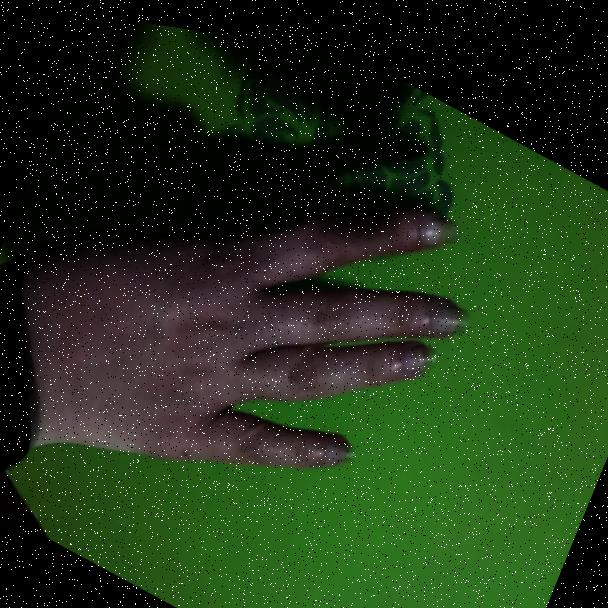four: (0, 18, 502, 584)
